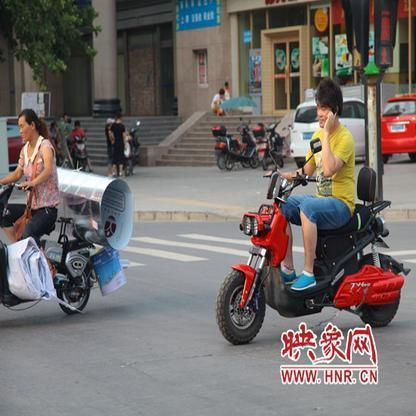target: (213, 76, 405, 345)
